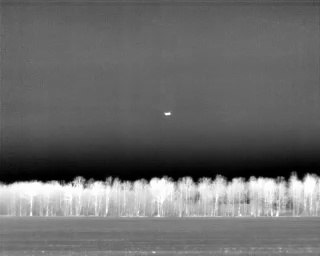DRONE: (161, 108, 174, 120)
